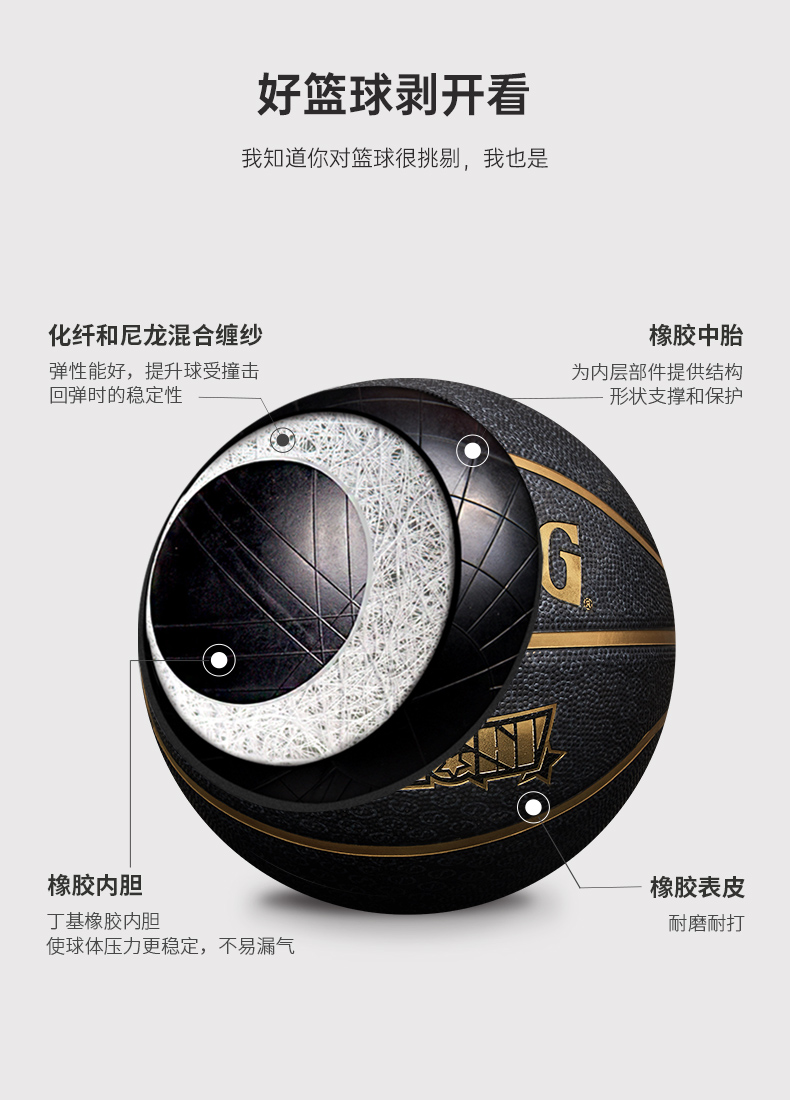ball: (137, 379, 675, 916)
